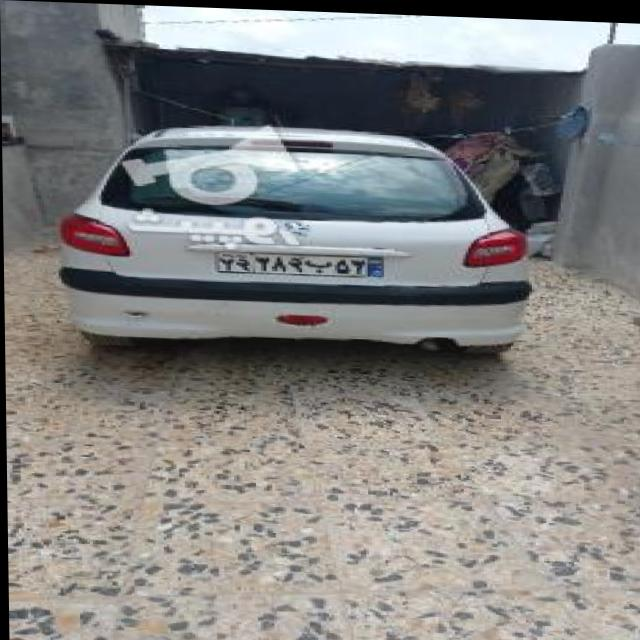licence: (208, 247, 389, 276)
